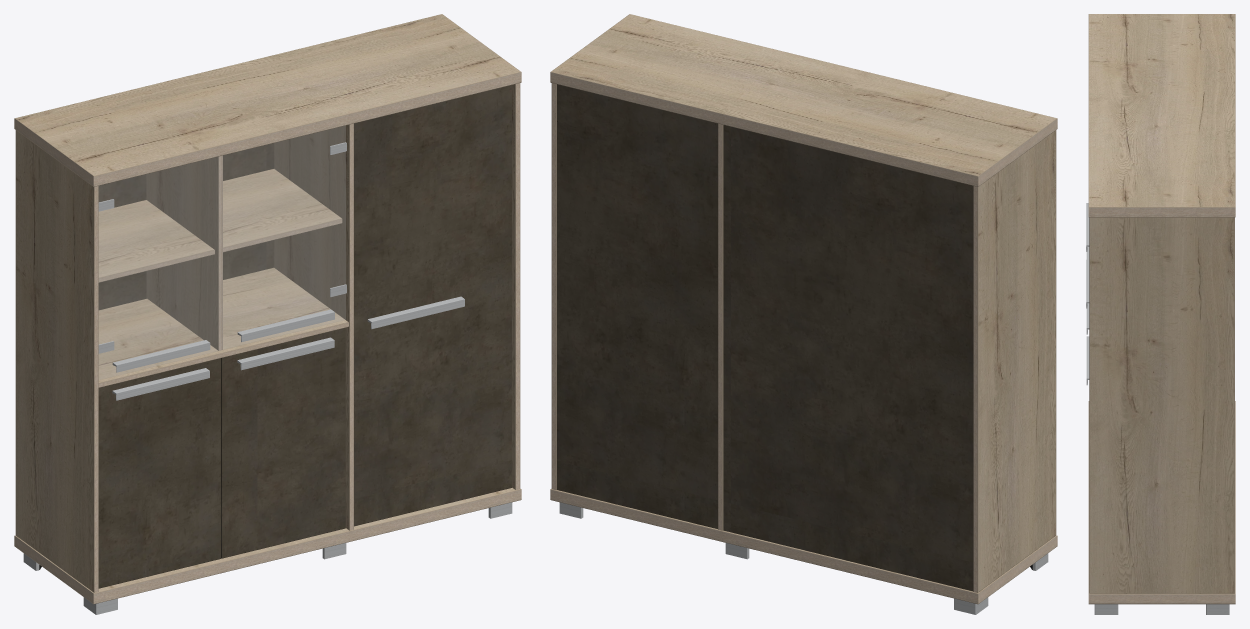
The picture shows the model from 3 angles, left to right: view 1: azimuth 30°, elevation 25°; view 2: azimuth 150°, elevation 25°; view 3: azimuth 270°, elevation 25°; orthographic projection. The views are drawn at different scales.
Parts seen in each view (by area): view 1: Line1789532158, Line1789532140, Line1789532144, Line1789532159, Line1789532160, Box1578995145, Box1578995142, Line1789532145, Line1789532164, Line1789532163, Line1789532141, Line1789532154 (+8 smaller); view 2: Line1789532162, Line1789532143, Line1789532140, Line1789532144, Line1789532141, Line1789532145, Line1789532142; view 3: Line1789532142, Line1789532140, Line1789532141, Object5790, Object5791.
Boxes of the visible parts, left/top/right/bottom form: Line1789532158: left=354, top=85, right=511, bottom=526; Line1789532140: left=14, top=14, right=521, bottom=186; Line1789532144: left=15, top=130, right=98, bottom=592; Line1789532159: left=221, top=328, right=345, bottom=558; Line1789532160: left=98, top=358, right=220, bottom=588; Box1578995145: left=222, top=126, right=345, bottom=349; Box1578995142: left=99, top=156, right=220, bottom=379; Line1789532145: left=274, top=123, right=353, bottom=530; Line1789532164: left=98, top=267, right=348, bottom=387; Line1789532163: left=146, top=155, right=222, bottom=350; Line1789532141: left=14, top=488, right=521, bottom=604; Line1789532154: left=223, top=169, right=342, bottom=252; Line1789532162: left=723, top=125, right=973, bottom=591; Line1789532143: left=557, top=84, right=717, bottom=528; Line1789532140: left=550, top=14, right=1057, bottom=186; Line1789532144: left=973, top=130, right=1056, bottom=592; Line1789532141: left=550, top=489, right=1057, bottom=604; Line1789532145: left=718, top=123, right=723, bottom=530; Line1789532142: left=551, top=83, right=556, bottom=489; Line1789532142: left=1089, top=217, right=1234, bottom=593; Line1789532140: left=1088, top=14, right=1235, bottom=217; Line1789532141: left=1088, top=401, right=1235, bottom=604; Object5790: left=1094, top=604, right=1118, bottom=614; Object5791: left=1206, top=604, right=1229, bottom=614.
Bounding box in the file's own units: 1.56 × 1.54 × 0.5078.
Materials: 7 (5 with a texture image).
